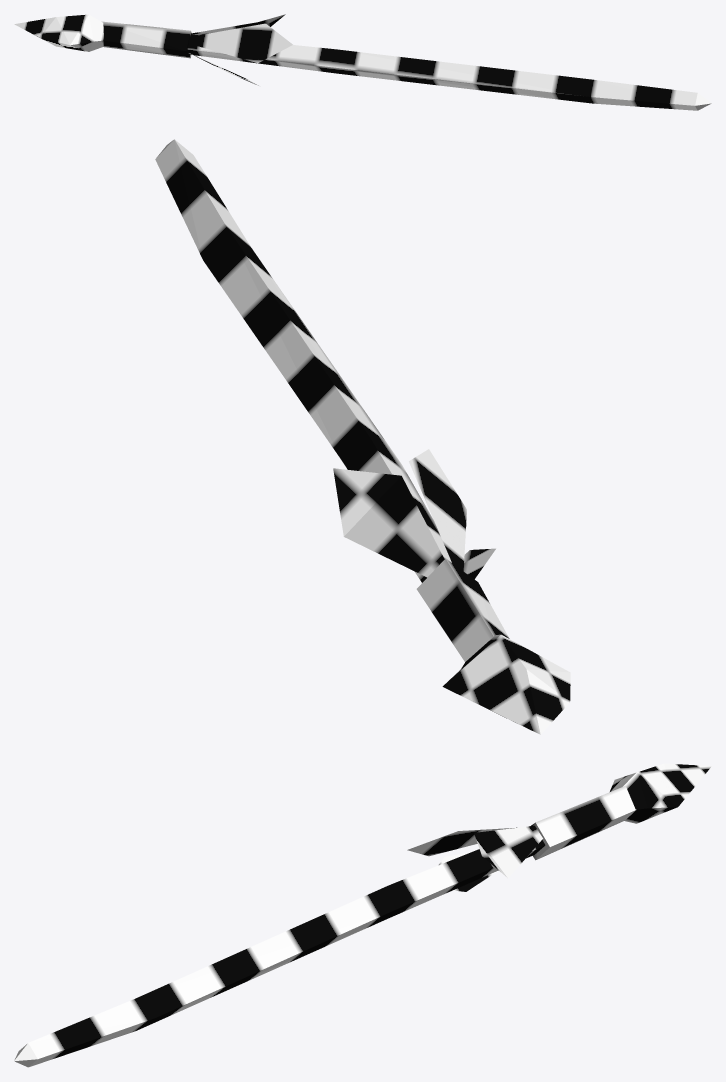
Rendered from initwesp1.dae.
3 renders of one model, top to bottom at view 1: azimuth 30°, elevation 25°; view 2: azimuth 150°, elevation 25°; view 3: azimuth 270°, elevation 25°, orthographic. The views are drawn at different scales.
Parts seen in each view (by area): view 1: weapon; view 2: weapon; view 3: weapon.
Boxes of the visible parts, x1,y1,x2,y2 form: weapon: [14, 14, 711, 110]; weapon: [155, 139, 570, 734]; weapon: [14, 763, 711, 1067].
Size of the model in its own units: 1.83 by 1.83 by 0.2097.
Materials: 1 (1 with a texture image).
